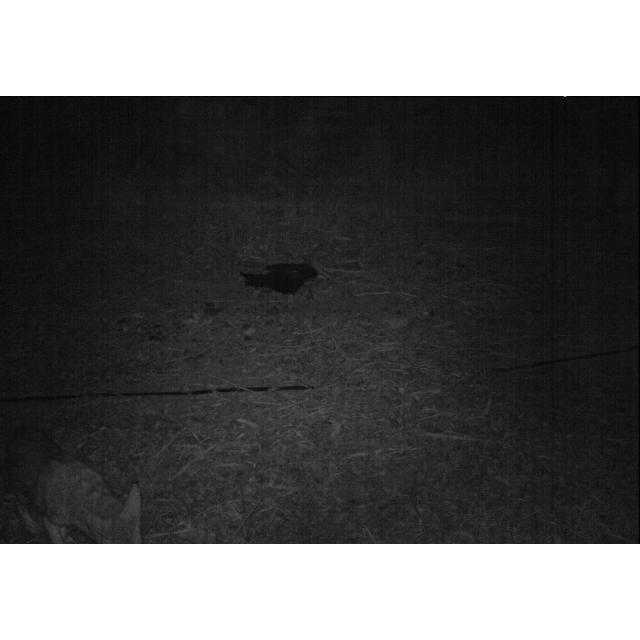animals: (28, 454, 148, 544)
